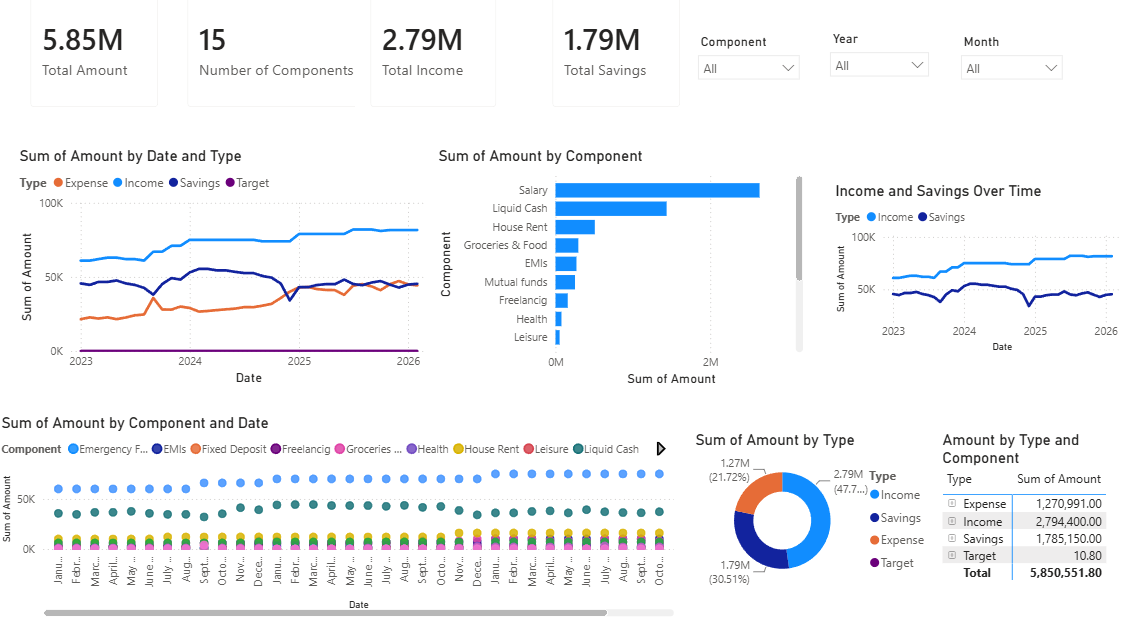

Layout of this report page (visuals, bound fields, positions):
{"tool":"powerbi","page":{"name":"Page 1","canvas":[1280,720],"ordinal":0},"visuals":[{"type":"cardVisual","fields":{"Data":["FactFinance.Total Amount"]},"box":[20,0,176,166],"z":0},{"type":"cardVisual","fields":{"Data":["FactFinance.Number of Components"]},"box":[194,0,254,166],"z":1000},{"type":"cardVisual","fields":{"Data":["FactFinance.Total Income"]},"box":[398,0,174,166],"z":2000},{"type":"cardVisual","fields":{"Data":["FactFinance.Total Savings"]},"box":[600,0,176,166],"z":3000},{"type":"lineChart","fields":{"Category":["DimDate.Date"],"Y":["Sum(FactFinance.Amount)"],"Series":["DimType.Type"]},"box":[20,193.3,465,270],"z":4000},{"type":"clusteredBarChart","fields":{"Category":["DimComponent.Component"],"Y":["Sum(FactFinance.Amount)"]},"box":[485,193.3,415,270],"z":5000},{"type":"donutChart","fields":{"Category":["DimType.Type"],"Y":["Sum(FinanceTable.Amount)"]},"box":[771.4,508.6,272.9,180],"z":6000},{"type":"lineChart","title":"Income and Savings Over Time","fields":{"Category":["DimDate.Date"],"Y":["Sum(FactFinance.Amount)"],"Series":["DimType.Type"]},"box":[926.7,231.7,330,193.3],"z":7000},{"type":"scatterChart","fields":{"X":["DimDate.Date"],"Y":["Sum(FactFinance.Amount)"],"Series":["DimComponent.Component"]},"box":[0,490,757.1,230],"z":8000},{"type":"slicer","fields":{"Values":["DimComponent.Component"]},"box":[768.6,62.9,132.9,71.4],"z":9000},{"type":"pivotTable","title":"Amount by Type and Component","fields":{"Rows":["DimType.Type","DimComponent.Component"],"Values":["Sum(FinanceTable.Amount)"]},"box":[1045.7,508.6,211.4,180],"z":9001},{"type":"slicer","fields":{"Values":["DimDate.Year"]},"box":[915.7,60,130,67.1],"z":9002},{"type":"slicer","fields":{"Values":["DimDate.Month"]},"box":[1061.4,62.9,132.9,67.1],"z":9003}]}

Visuals, with their boxes on the page's 1280x720 design canvas (x1, y1, x2, y2). These are canvas units, not pixel positions in the 1143x619 screenshot, which may show the page scaled, cropped or inside an application window:
cardVisual - FactFinance.Total Amount: x1=20, y1=0, x2=196, y2=166
cardVisual - FactFinance.Number of Components: x1=194, y1=0, x2=448, y2=166
cardVisual - FactFinance.Total Income: x1=398, y1=0, x2=572, y2=166
cardVisual - FactFinance.Total Savings: x1=600, y1=0, x2=776, y2=166
lineChart - DimDate.Date x Sum(FactFinance.Amount): x1=20, y1=193, x2=485, y2=463
clusteredBarChart - DimComponent.Component x Sum(FactFinance.Amount): x1=485, y1=193, x2=900, y2=463
donutChart - DimType.Type x Sum(FinanceTable.Amount): x1=771, y1=509, x2=1044, y2=689
"Income and Savings Over Time" lineChart: x1=927, y1=232, x2=1257, y2=425
scatterChart - DimDate.Date x Sum(FactFinance.Amount): x1=0, y1=490, x2=757, y2=720
slicer - DimComponent.Component: x1=769, y1=63, x2=902, y2=134
"Amount by Type and Component" pivotTable: x1=1046, y1=509, x2=1257, y2=689
slicer - DimDate.Year: x1=916, y1=60, x2=1046, y2=127
slicer - DimDate.Month: x1=1061, y1=63, x2=1194, y2=130
